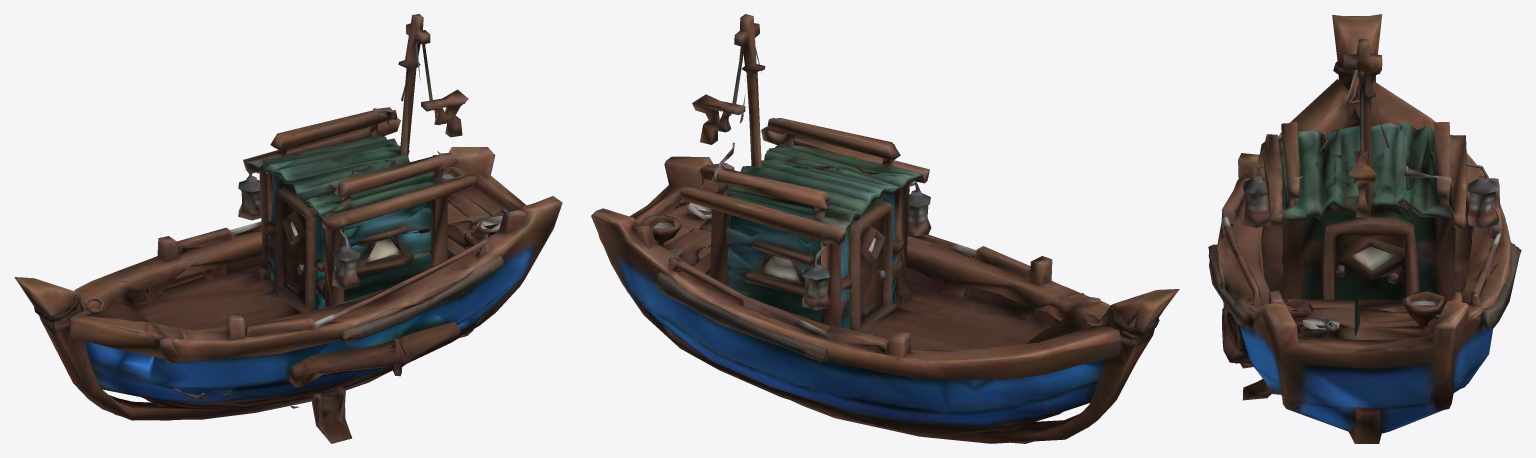
Rendered from prop_hanabi_boat.glb.
The picture shows the model from 3 angles, left to right: view 1: azimuth 30°, elevation 25°; view 2: azimuth 150°, elevation 25°; view 3: azimuth 270°, elevation 25°; orthographic projection. The views are drawn at different scales.
Visible parts, largest first — view 1: geometry_0; view 2: geometry_0; view 3: geometry_0.
Part boxes in pixels (<box>): geometry_0: <box>14,14,562,443</box>; geometry_0: <box>591,14,1179,443</box>; geometry_0: <box>1208,14,1521,443</box>.
Size of the model in its own units: 0.9986 by 0.6785 by 0.4493.
Materials: 1 (1 with a texture image).
